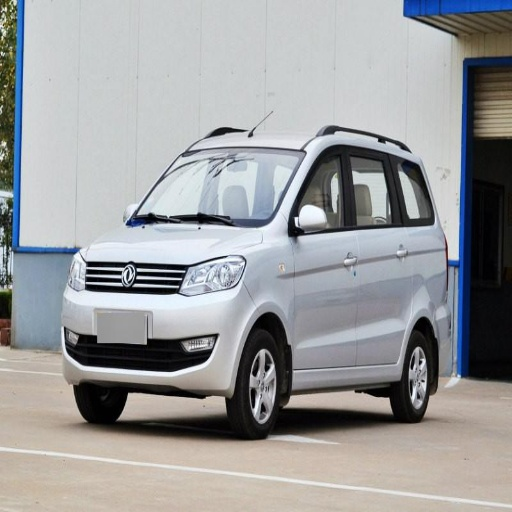front_bumper: (62, 261, 255, 392)
front_glass: (129, 152, 303, 227)
front_left_door: (291, 143, 359, 370)
